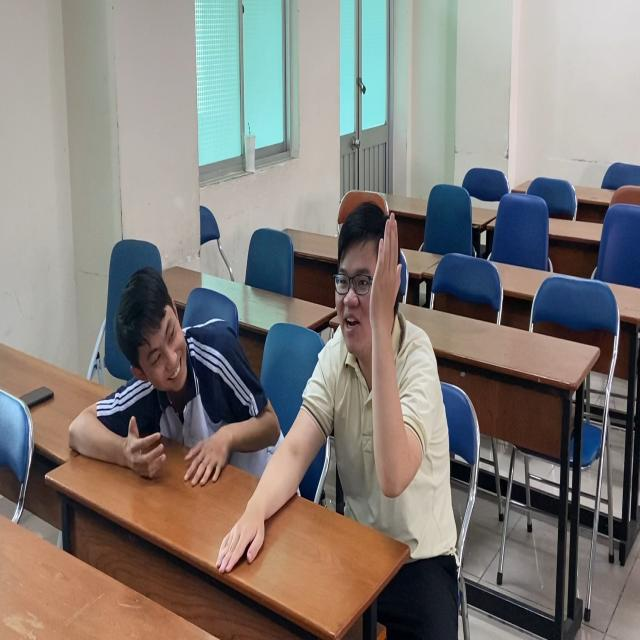raise_hand: (320, 198, 450, 551)
